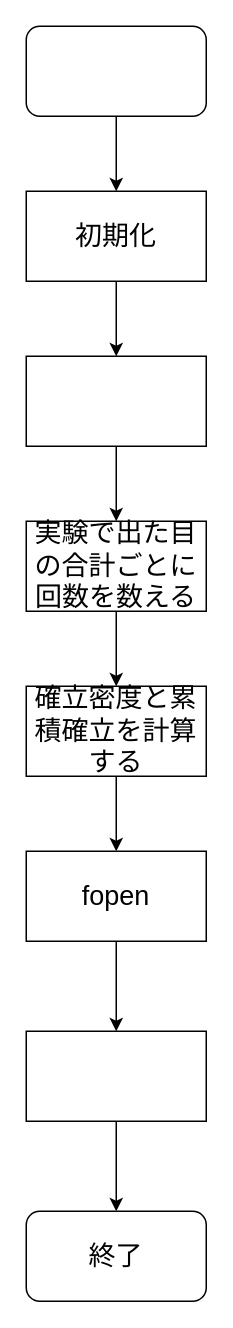
Image size: 233x1328. Some labels were removed from this diagram. The shapes that lost their labels are listed below. From the top down, each one's centre as x and y in pixels, then its label:
At pixel 115 70: "開始".
At pixel 115 400: "実験で出た目の合計をだす".
At pixel 115 1075: "fprintf".
